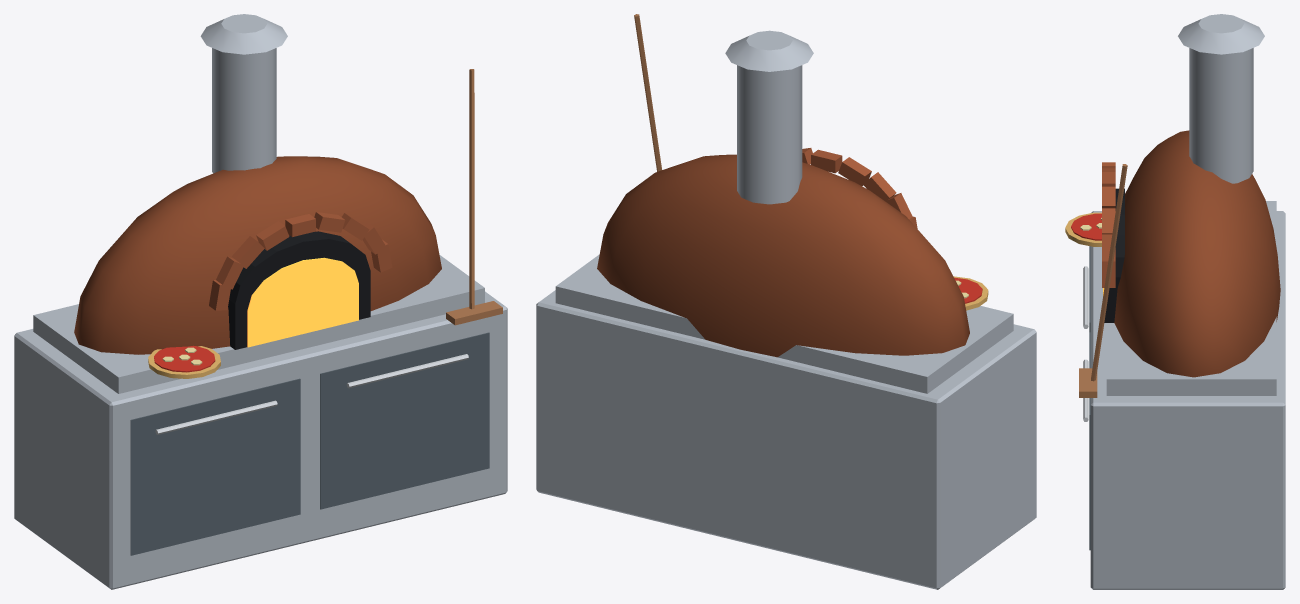
File: pizza_oven.glb
The picture shows the model from 3 angles, left to right: view 1: azimuth 30°, elevation 25°; view 2: azimuth 150°, elevation 25°; view 3: azimuth 270°, elevation 25°; orthographic projection.
Visible parts, largest first — view 1: pizza_oven; view 2: pizza_oven; view 3: pizza_oven.
Part boxes in pixels (x1,y1,x2,y2): pizza_oven: (14,14,507,589); pizza_oven: (536,14,1036,589); pizza_oven: (1065,14,1285,589).
Bounding box in the file's own units: 2 × 2.26 × 0.96.
